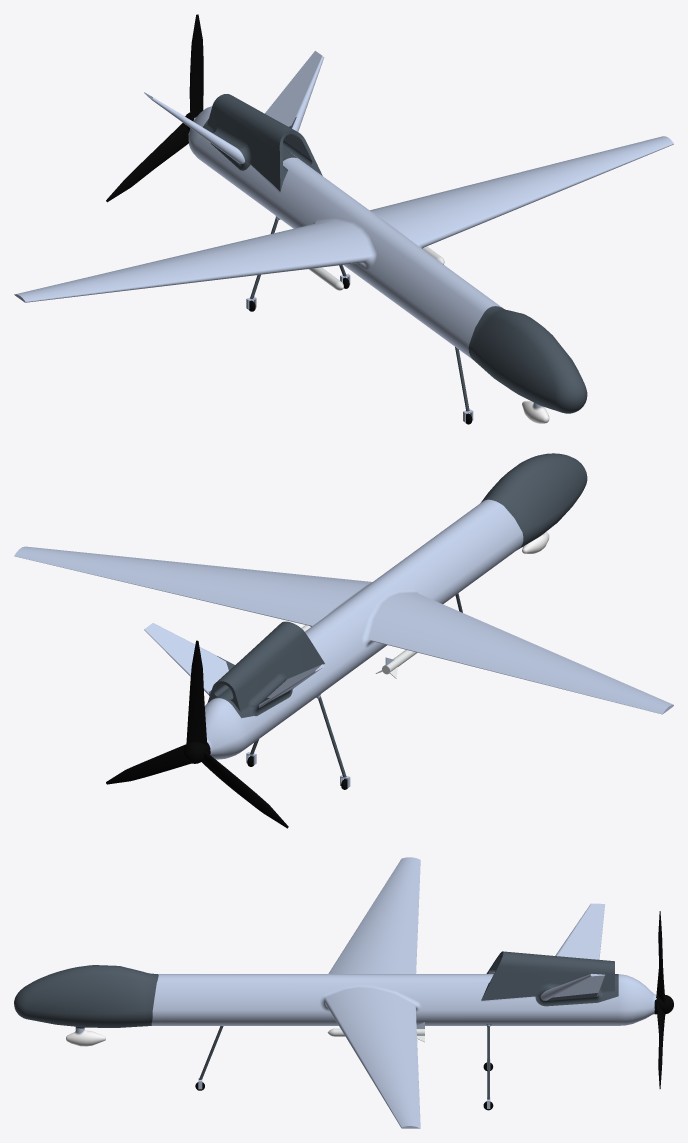
File: wrj.FBX
The picture shows the model from 3 angles, top to bottom: view 1: azimuth 30°, elevation 25°; view 2: azimuth 150°, elevation 25°; view 3: azimuth 270°, elevation 25°; orthographic projection. The views are drawn at different scales.
Parts seen in each view (by area): view 1: Brep With Voids.1; view 2: Brep With Voids.1; view 3: Brep With Voids.1.
Boxes of the visible parts, x1,y1,x2,y2 form: Brep With Voids.1: (14,14,673,424); Brep With Voids.1: (14,453,673,828); Brep With Voids.1: (14,857,673,1128).
Size of the model in its own units: 1.08 by 0.3371 by 1.12.
